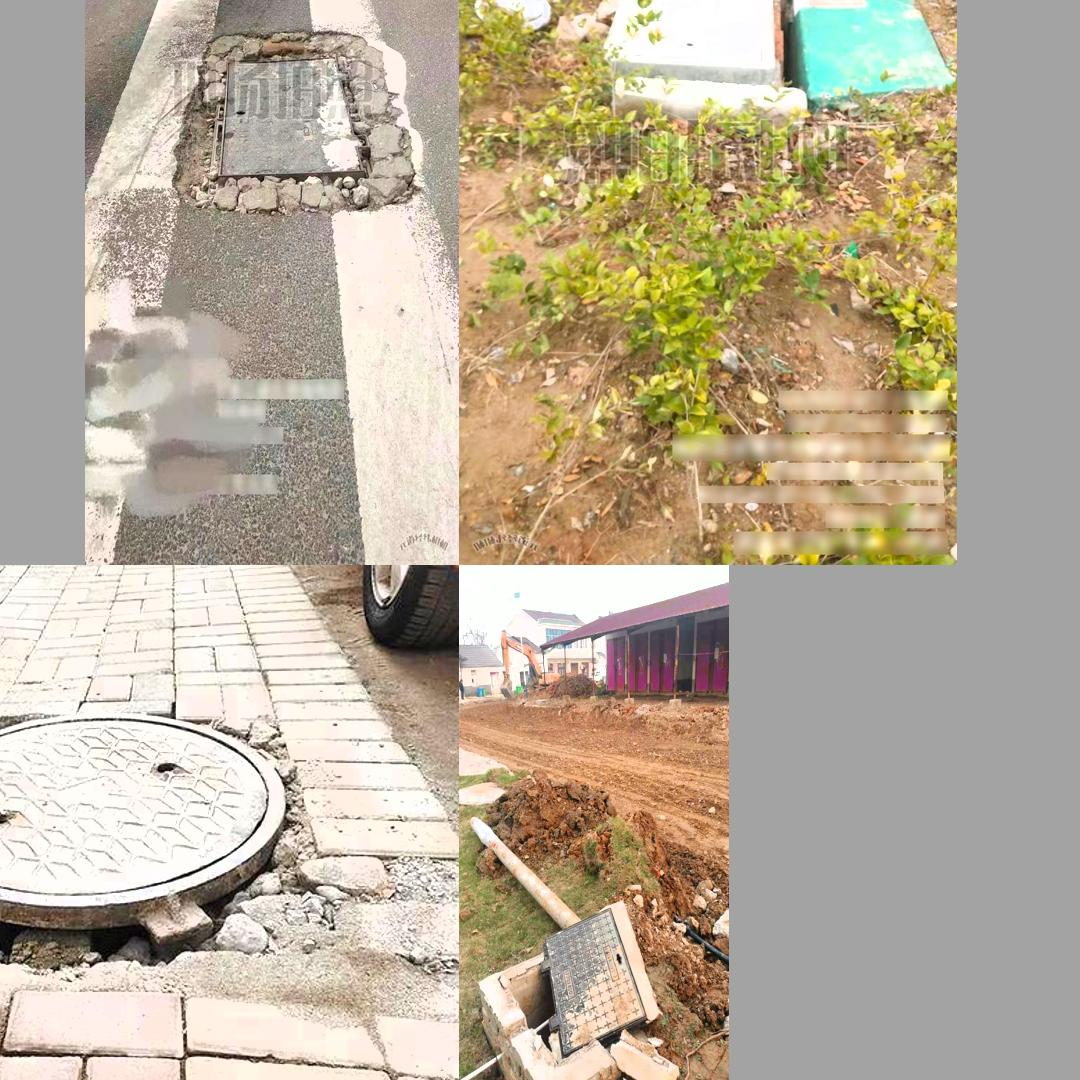circle: (0, 713, 386, 990), (229, 282, 459, 565), (490, 898, 673, 1080), (590, 0, 810, 109)
